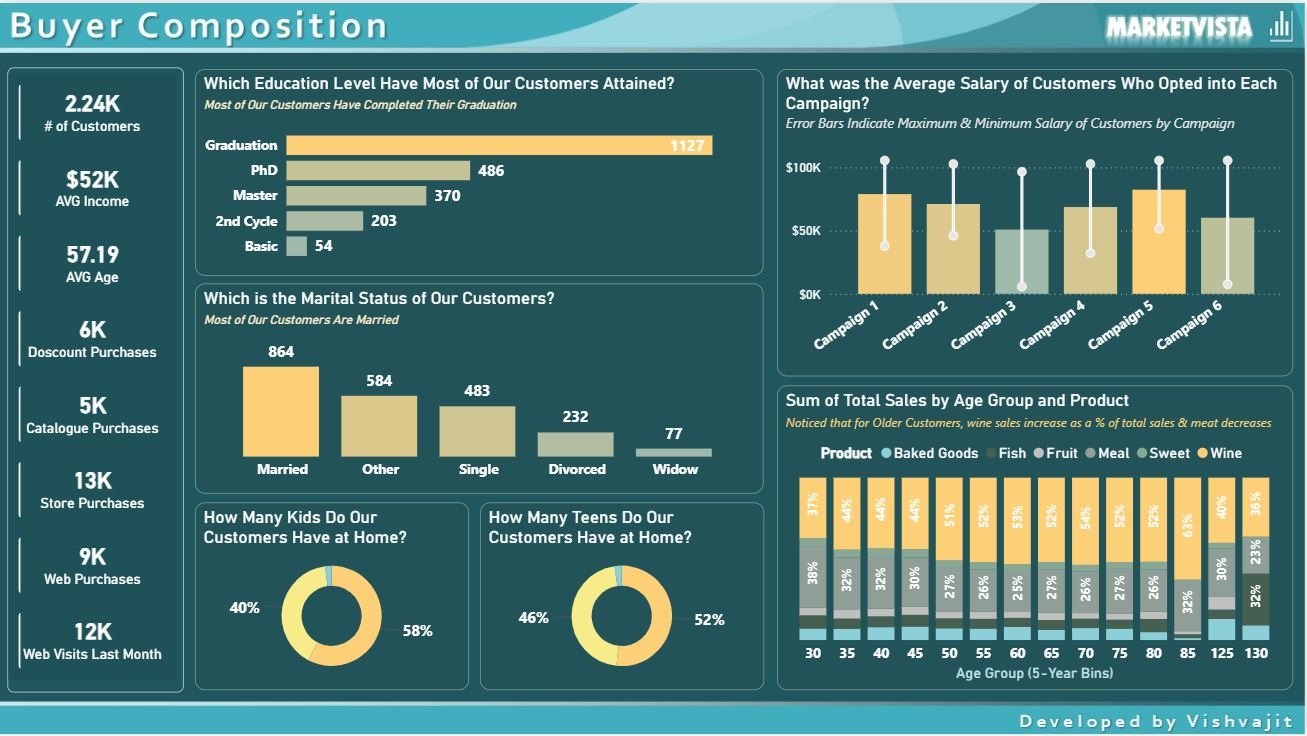

Layout of this report page (visuals, bound fields, positions):
{"tool":"powerbi","page":{"name":"Buyer Composition","canvas":[1280,720],"ordinal":2},"visuals":[{"type":"barChart","title":"Which Education Level Have Most of Our Customers Attained?","fields":{"Y":["CountNonNull(marketing_data.ID)"],"Category":["marketing_data.Education"]},"box":[191.4,64.3,557.1,202.9],"z":0},{"type":"clusteredColumnChart","title":"Which is the Marital Status of Our Customers?","fields":{"Category":["marketing_data.Marital_Status"],"Y":["CountNonNull(marketing_data.ID)"]},"box":[191.4,275.7,557.1,205.7],"z":1000},{"type":"donutChart","title":"How Many Kids Do Our Customers Have at Home?","fields":{"Y":["CountNonNull(marketing_data.ID)"],"Category":["marketing_data.Kidhome"]},"box":[191.4,490,268.6,184.3],"z":2000},{"type":"donutChart","title":"How Many Teens Do Our Customers Have at Home?","fields":{"Y":["CountNonNull(marketing_data.ID)"],"Category":["marketing_data.Teenhome"]},"box":[470,490,278.6,184.3],"z":3000},{"type":"columnChart","title":"What was the Average Salary of Customers Who Opted into Each Campaign?","fields":{"Y":["Avg(marketing_data. Income )"],"Category":["campaign.Campaign"]},"box":[761.4,64.3,505.7,301.4],"z":4000},{"type":"hundredPercentStackedColumnChart","fields":{"Y":["Sum(products.Total Sales)"],"Series":["products.Product"],"Category":["marketing_data.Age Group"]},"box":[761.4,375.7,505.7,298.6],"z":5000},{"type":"cardVisual","fields":{"Data":["CountNonNull(marketing_data.ID)","Avg(marketing_data. Income )","Avg(marketing_data.Age)","Sum(marketing_data.Purchased - Catalog)","Sum(marketing_data.Purchased - Deal)","Sum(marketing_data.Purchased - Store)","Sum(marketing_data.Purchased - Web)","Sum(marketing_data.Web Visits Last Month)"]},"box":[7.5,63.8,172.5,612.5],"z":6000}]}

Visuals, with their boxes in screenshot pixels (x1, y1, x2, y2), scaled from the page's 1280x720 canvas onto the 1307x736 screenshot:
"Which Education Level Have Most of Our Customers Attained?" barChart: [195, 66, 764, 273]
"Which is the Marital Status of Our Customers?" clusteredColumnChart: [195, 282, 764, 492]
"How Many Kids Do Our Customers Have at Home?" donutChart: [195, 501, 470, 689]
"How Many Teens Do Our Customers Have at Home?" donutChart: [480, 501, 764, 689]
"What was the Average Salary of Customers Who Opted into Each Campaign?" columnChart: [777, 66, 1294, 374]
hundredPercentStackedColumnChart - Sum(products.Total Sales) x products.Product: [777, 384, 1294, 689]
cardVisual - CountNonNull(marketing_data.ID) x Avg(marketing_data. Income ): [8, 65, 184, 691]
